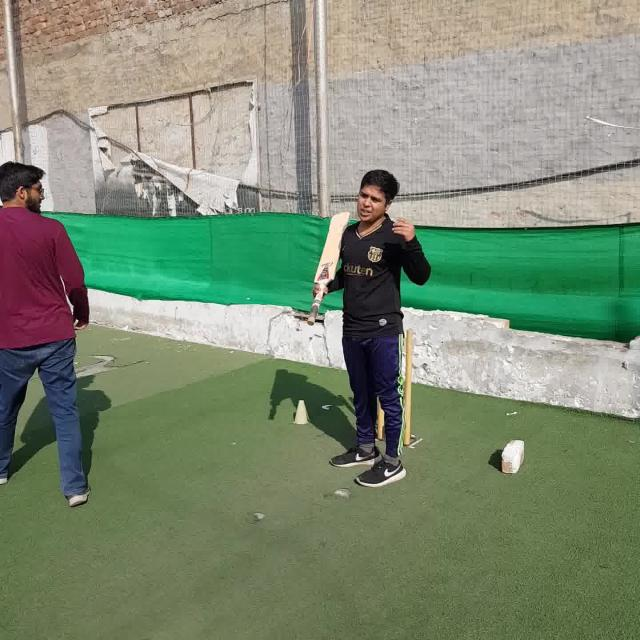bat: (307, 211, 349, 325)
